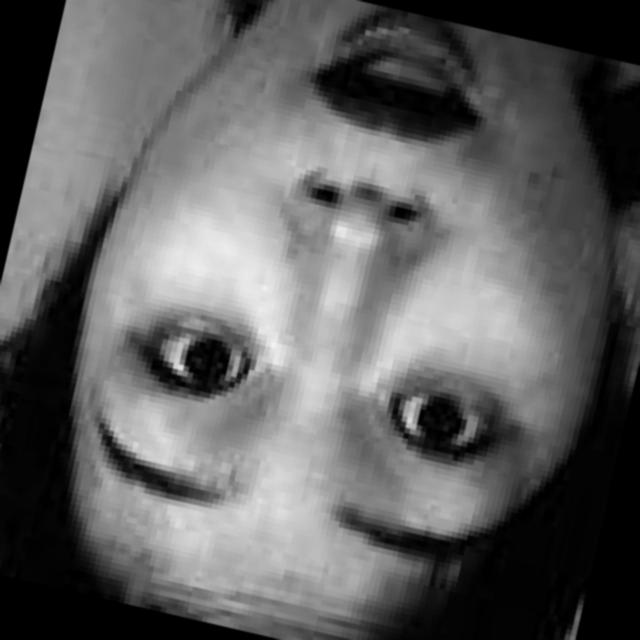surprise: (16, 0, 632, 640)
